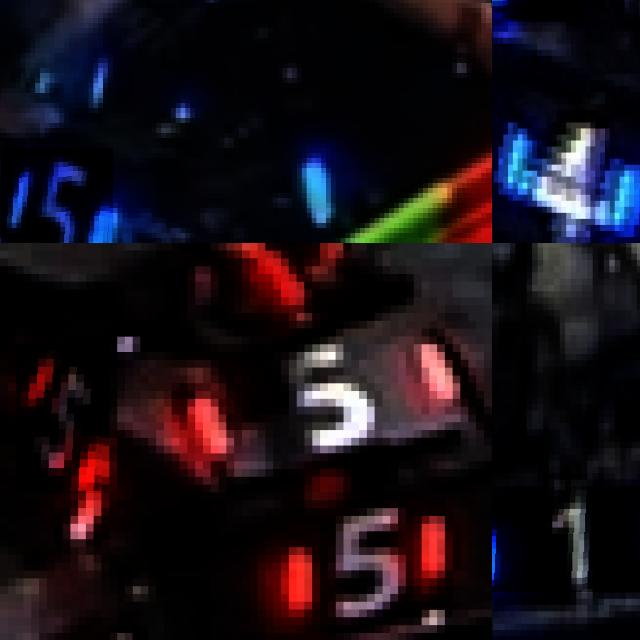B1: (492, 485, 640, 592)
B4: (492, 86, 634, 243)
B5: (1, 148, 112, 243)
R5: (281, 500, 445, 618), (16, 344, 109, 493)
